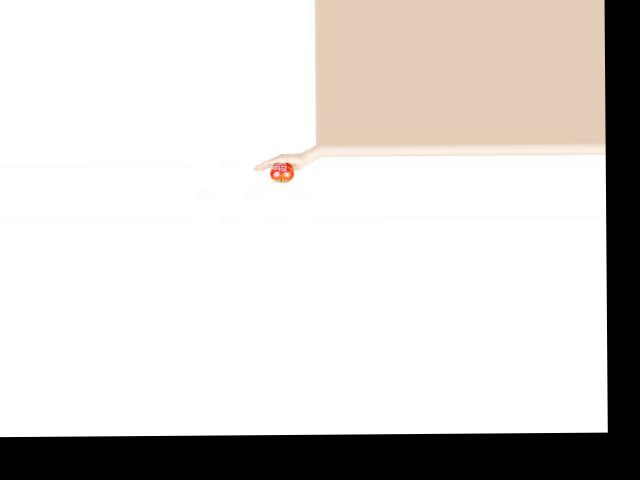tomato: (269, 162, 293, 182)
